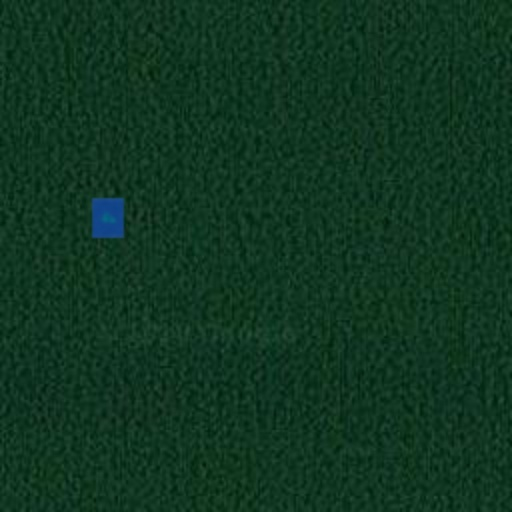rectangle: (88, 198, 128, 238)
